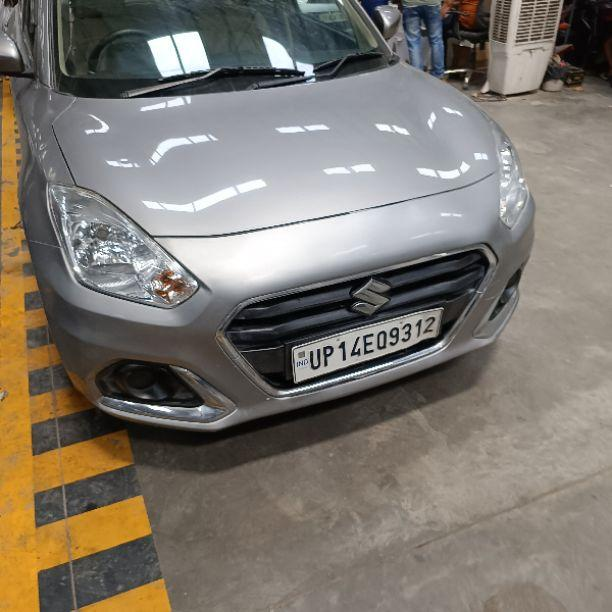license_plate: (289, 305, 444, 385)
